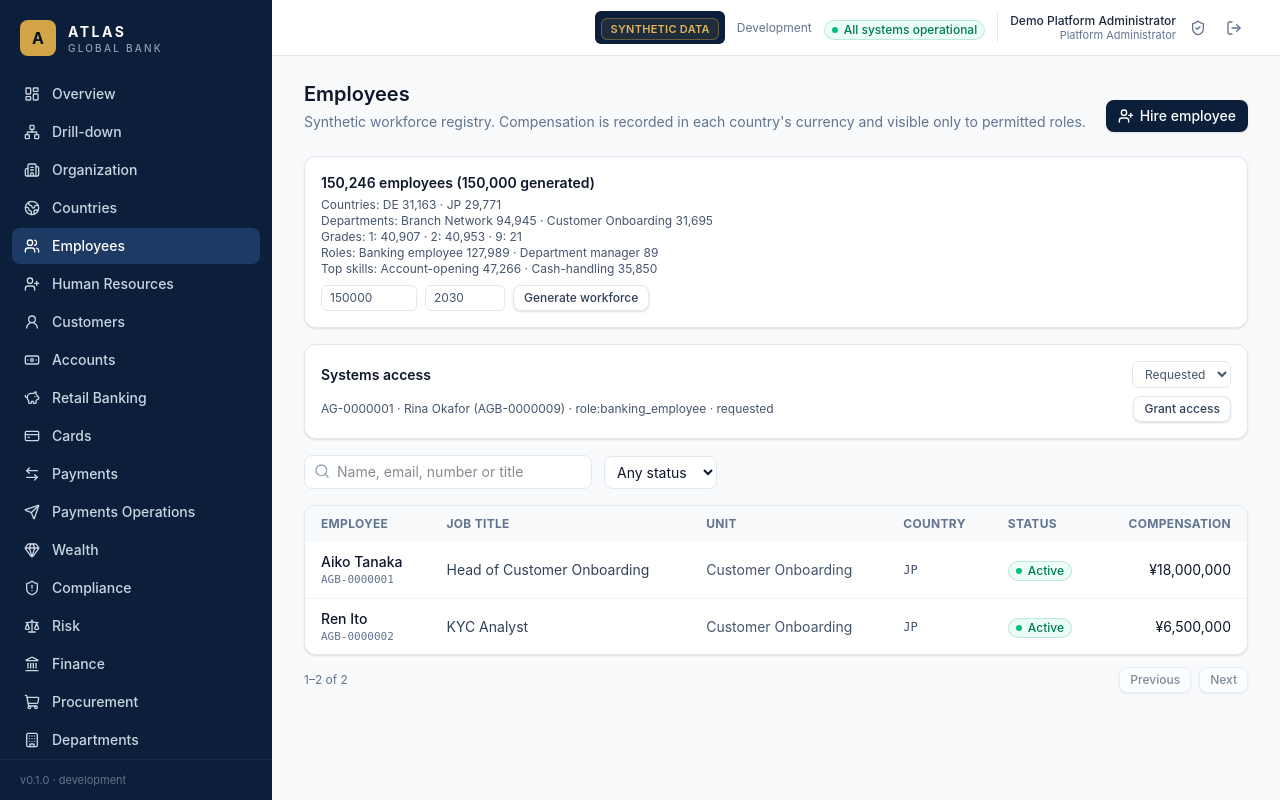
Scenario: Employees page › lists access requests raised by hires and grants one (Phase 74)
The image size is (1280, 800).
Expected: the text "AG-0000001 · Rina Okafor (AGB-0000009) · role:banking_employee · requested" is shown, [321, 401, 774, 417]
Click the button "Grant access" at [1182, 409], box [1134, 396, 1231, 422]
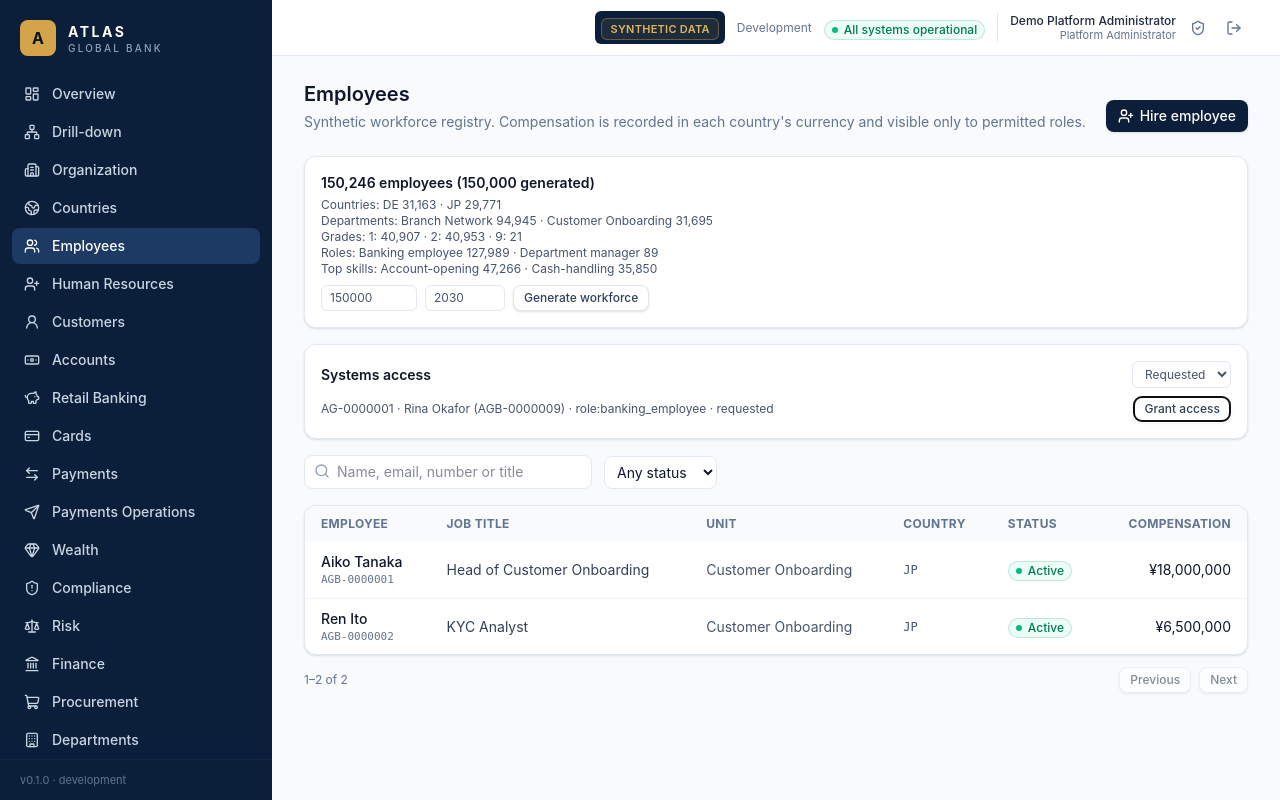
Select "Revoked" in the dropdown named "Access status" at [1182, 374], box [1132, 361, 1231, 388]
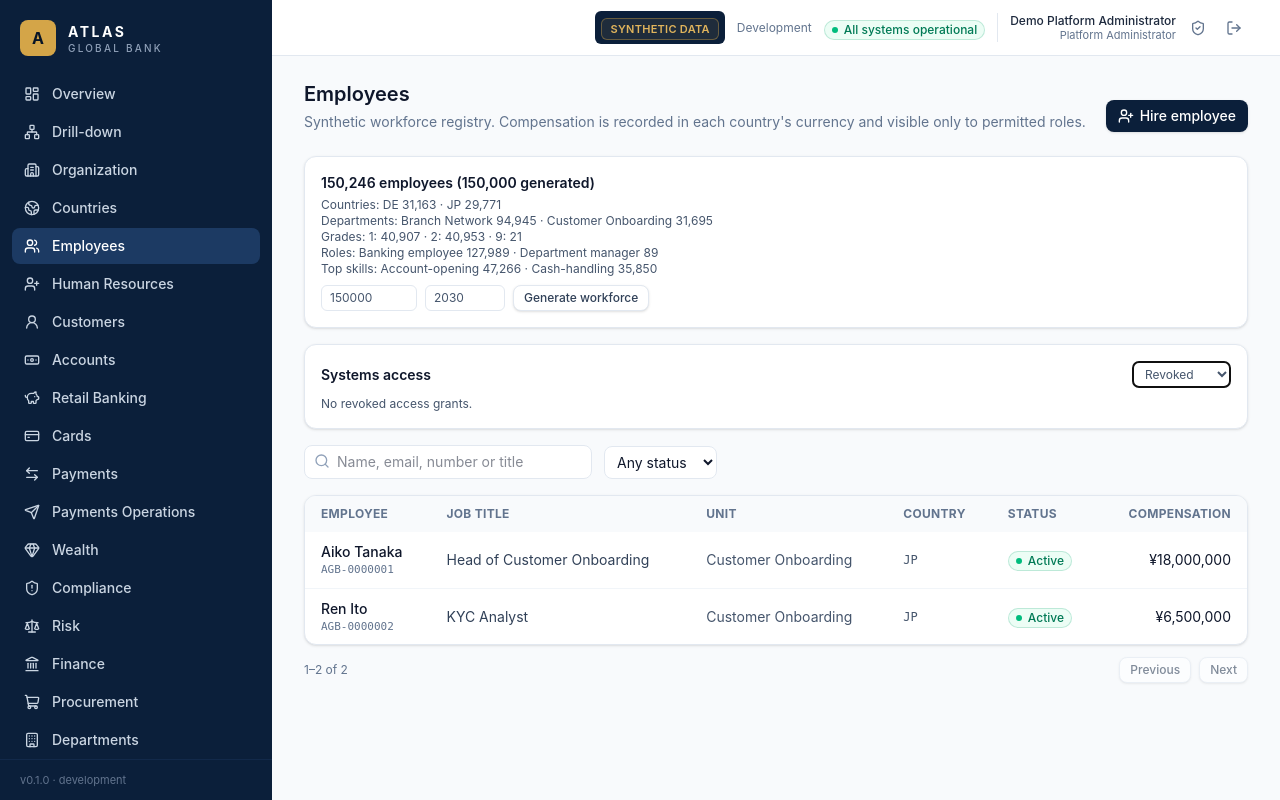
Now the text "No revoked access grants." is shown, box [321, 396, 472, 411]
